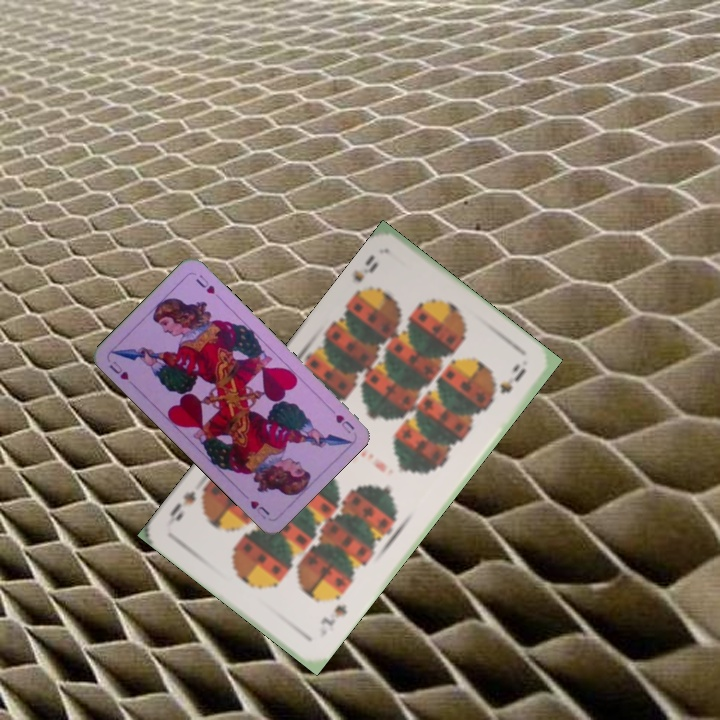HU: (105, 356, 131, 383), (331, 411, 357, 436)
S9: (347, 250, 381, 302), (316, 600, 350, 629)
